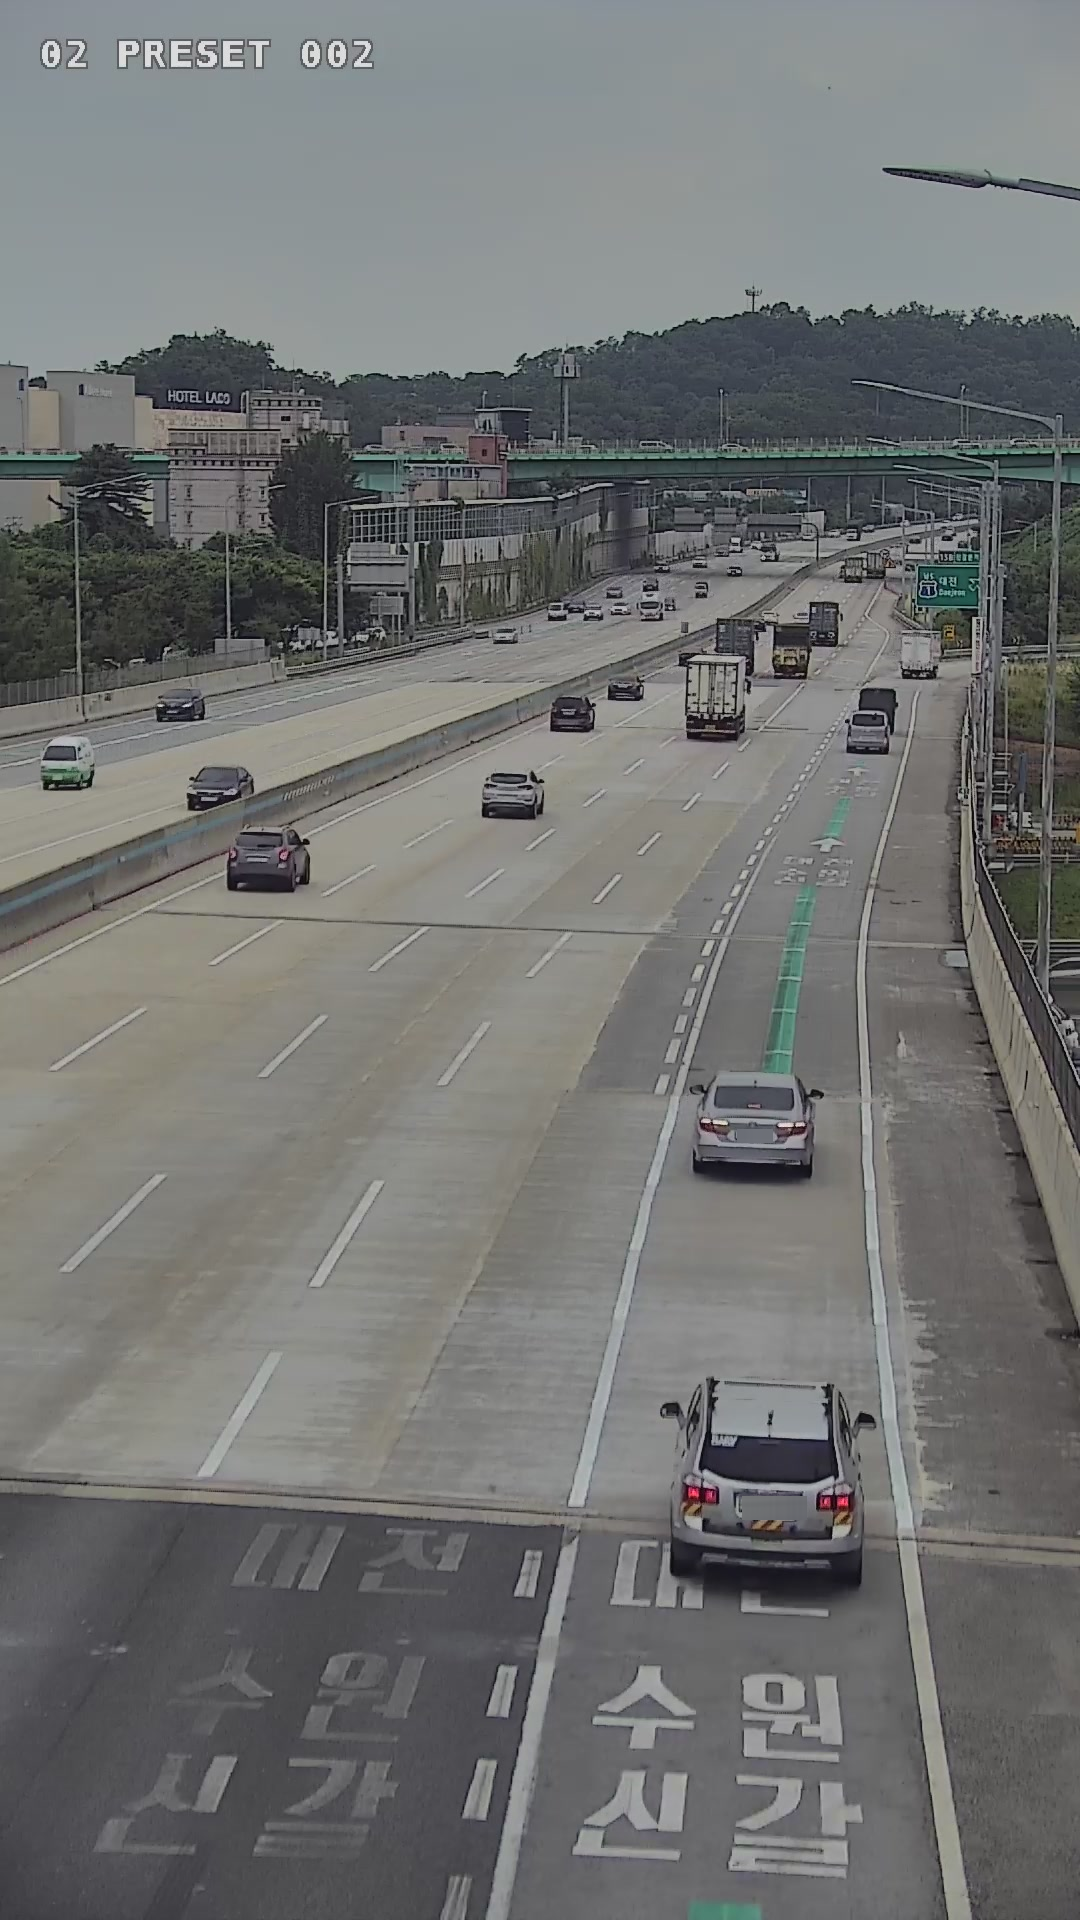Scissors: (661, 1374, 891, 1606)
